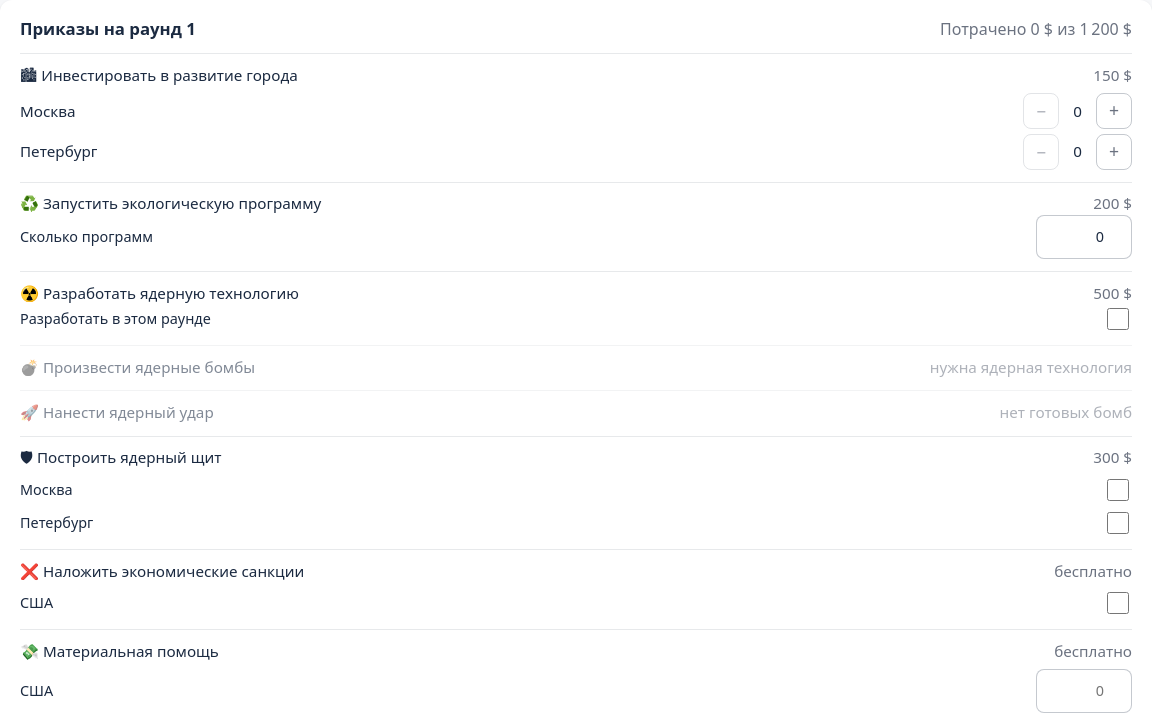
Test: OrdersForm › confirms a successful submission and tells the player it can be replaced
Click the button named "Добавить Москва" at (1114, 111), box [1096,93,1132,129]
(page scrolled)
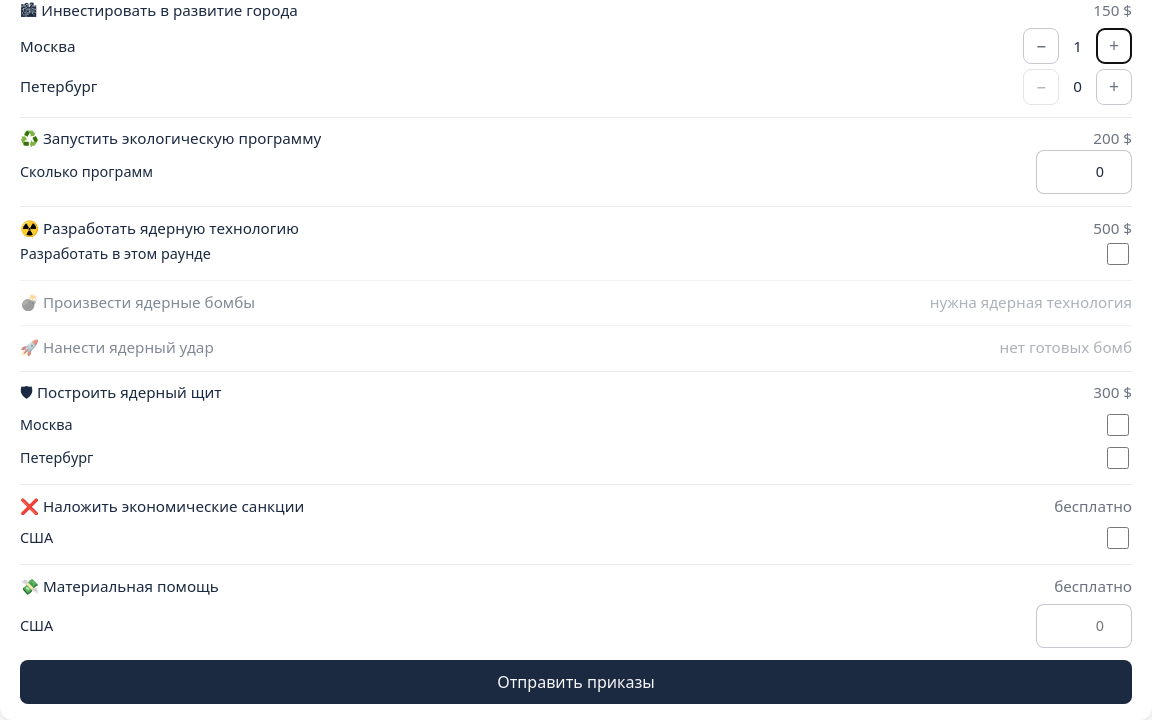
Click the button "Отправить приказы" at (576, 682), box [20,660,1132,704]
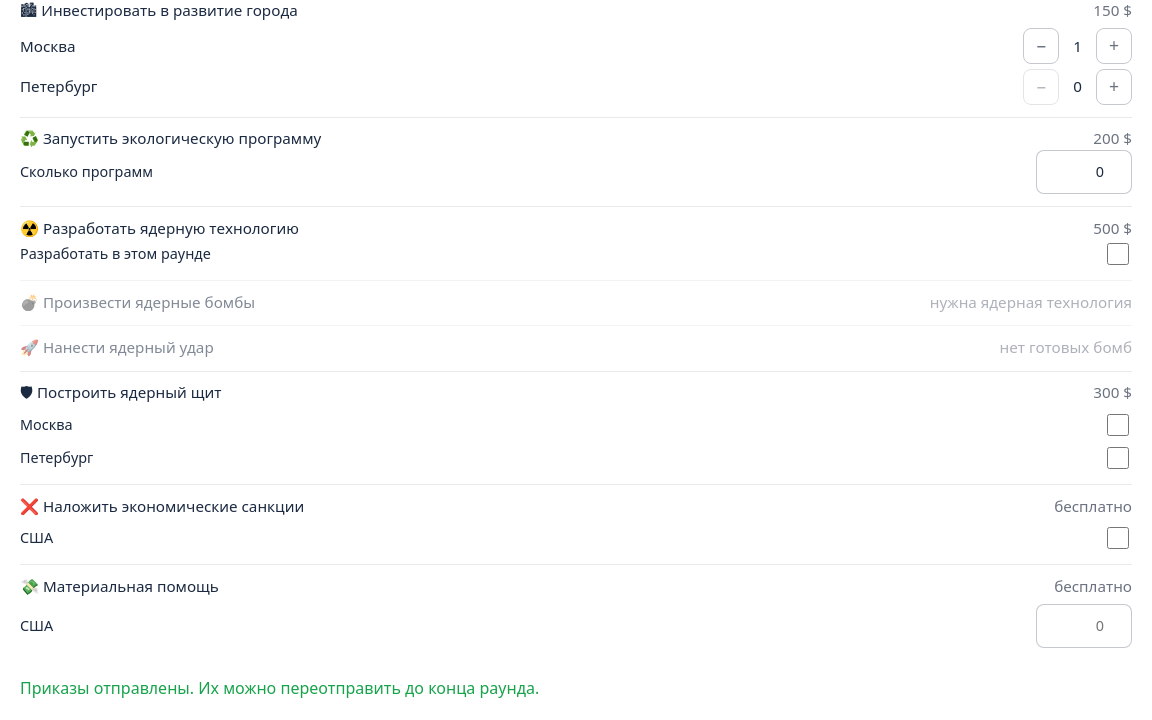
Expected: the text "Приказы отправлены. Их можно переотправить до конца раунда." is shown, [20,677,539,699]
